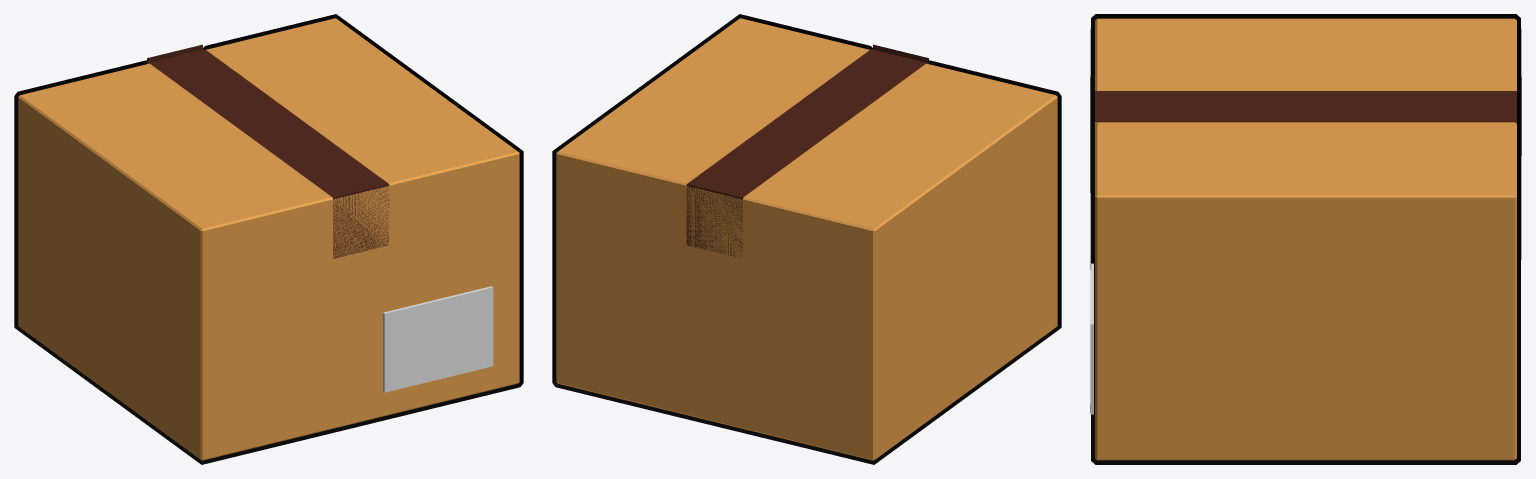
Rendered from caixa.fbx.
The picture shows the model from 3 angles, left to right: view 1: azimuth 30°, elevation 25°; view 2: azimuth 150°, elevation 25°; view 3: azimuth 270°, elevation 25°; orthographic projection. The views are drawn at different scales.
Visible parts, largest first — view 1: Cube, Cube.001, Plane; view 2: Cube, Cube.001; view 3: Cube, Cube.001, Plane.
Part boxes in pixels (box(x1,y1,x2,y2)): Cube: box(14, 14, 523, 464); Cube.001: box(147, 44, 389, 258); Plane: box(383, 286, 493, 392); Cube: box(552, 14, 1061, 464); Cube.001: box(686, 44, 928, 257); Cube: box(1090, 14, 1521, 464); Cube.001: box(1095, 91, 1516, 122); Plane: box(1090, 263, 1093, 414).
Bounding box in the file's own units: 204 × 143 × 204.
